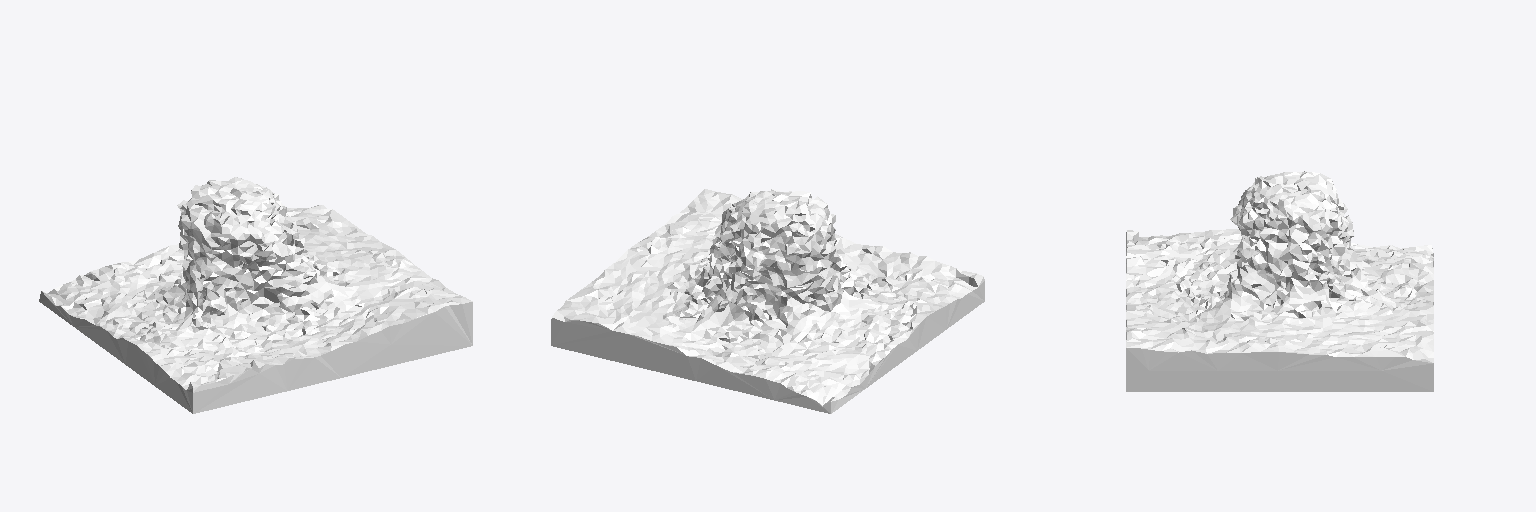
Rendered from Forest_bark.obj.
3 views of the same model, side by side, from view 1: azimuth 30°, elevation 25°; view 2: azimuth 150°, elevation 25°; view 3: azimuth 270°, elevation 25° (orthographic).
Visible parts, largest first — view 1: default_1.1; view 2: default_1.1; view 3: default_1.1.
Boxes of the visible parts, box(x1,y1,x2,y2) form: default_1.1: box(39, 177, 472, 413); default_1.1: box(551, 189, 984, 413); default_1.1: box(1126, 171, 1433, 391).
Size of the model in its own units: 26.97 by 12.47 by 25.71.